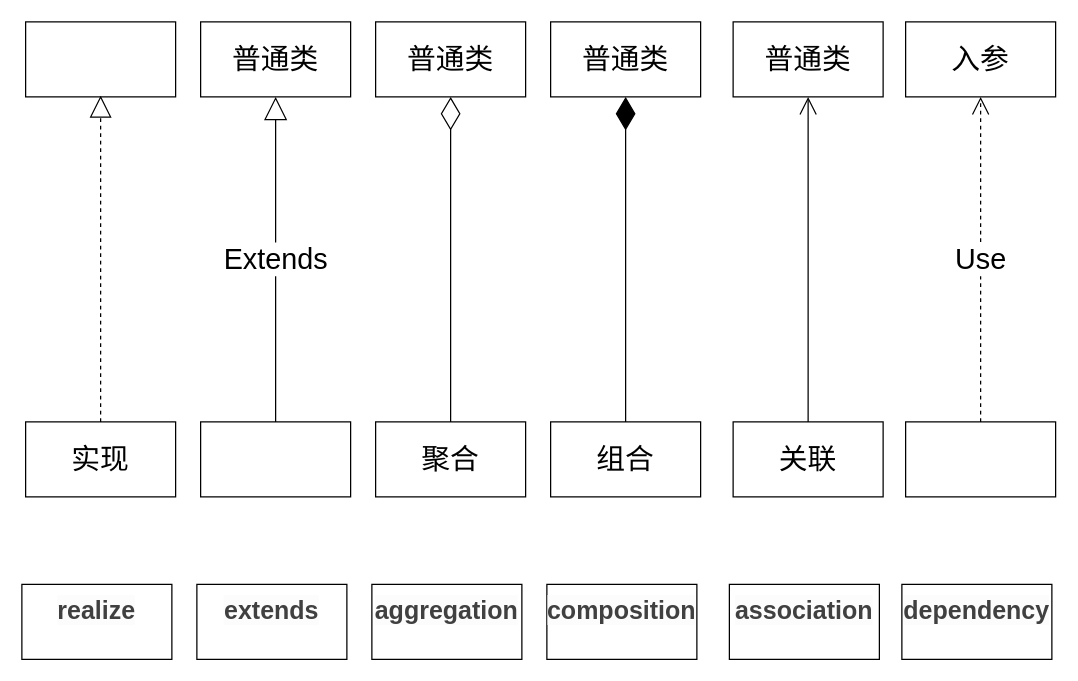
Some shapes in this 1078 by 681 pixel diagram are drawn without their labels. Here are the shapes that lost their labels. From the top down, the centre of each, then its label:
At (100,59): "接口/抽象".
At (275,459): "继承/泛化".
At (980,459): "依赖".
